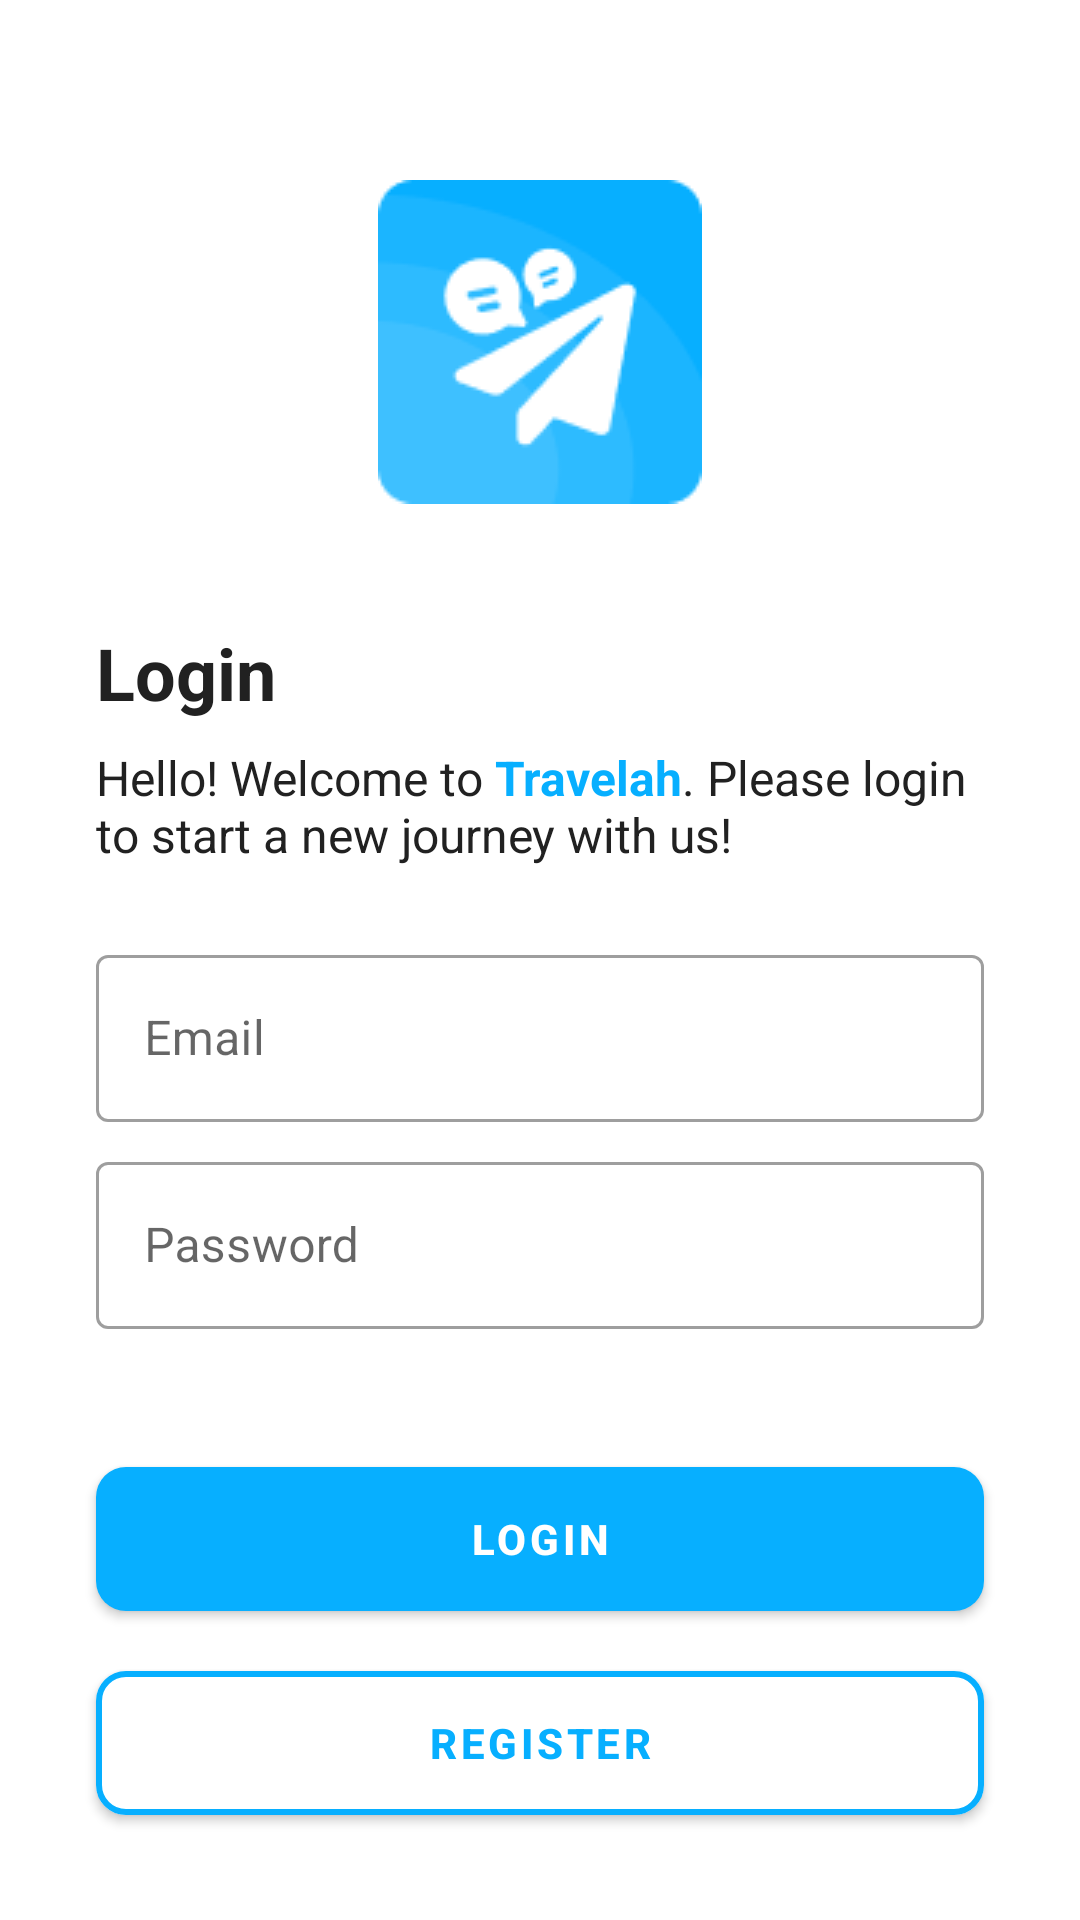

Icons on this 1080×1920 Android screen, each with the point to tap as point (x, y):
Travelah Icon: point (540, 342)
